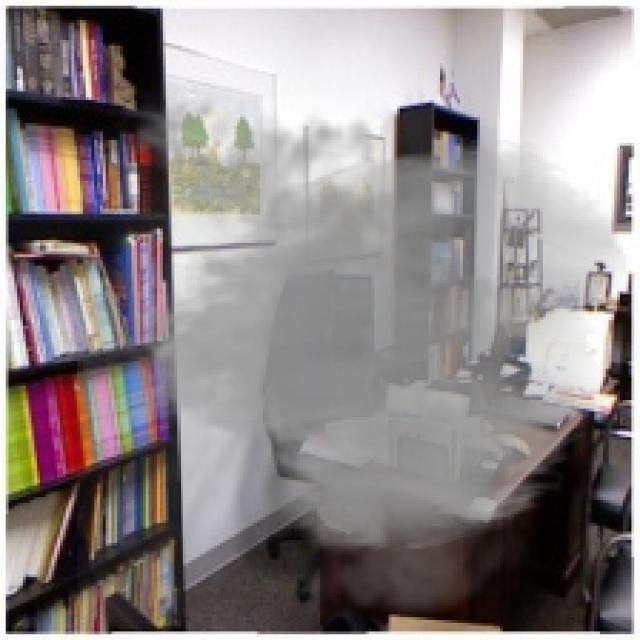Smoke: (77, 80, 632, 629)
